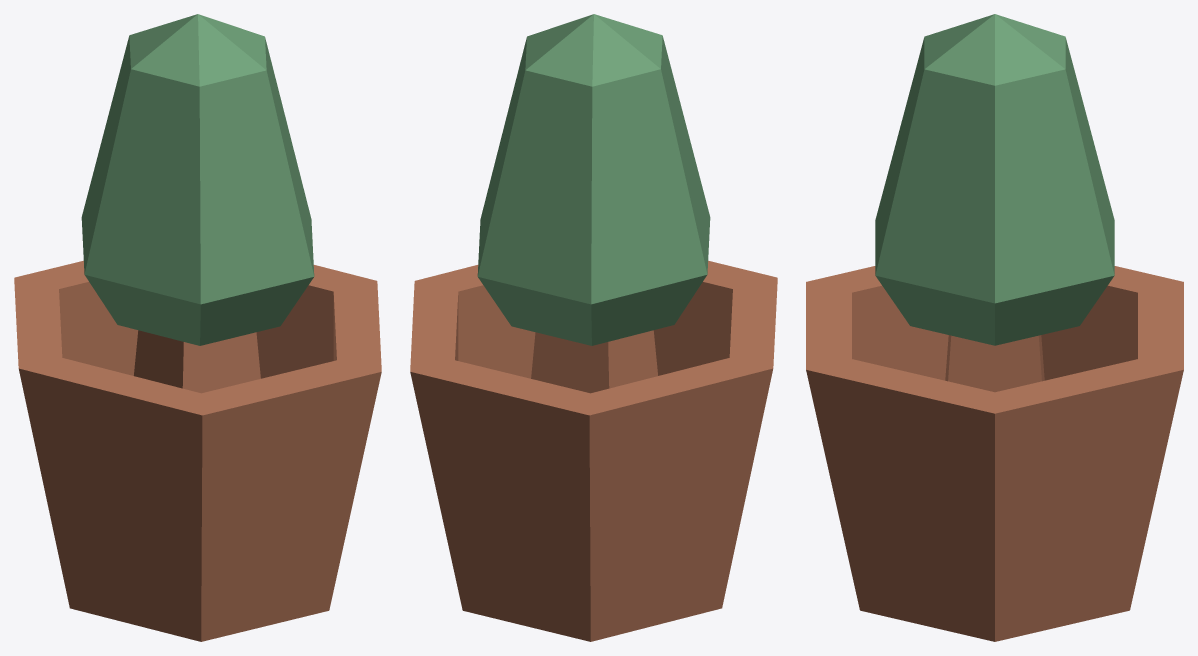
Rendered from plant-small-bush.glb.
3 views of the same model, side by side, from view 1: azimuth 30°, elevation 25°; view 2: azimuth 150°, elevation 25°; view 3: azimuth 270°, elevation 25° (orthographic).
Visible parts, largest first — view 1: plant-small-bush; view 2: plant-small-bush; view 3: plant-small-bush.
Boxes of the visible parts, x1,y1,x2,y2 form: plant-small-bush: [14, 14, 381, 641]; plant-small-bush: [410, 14, 777, 641]; plant-small-bush: [806, 14, 1183, 641].
Size of the model in its own units: 0.22 by 0.33 by 0.2.
